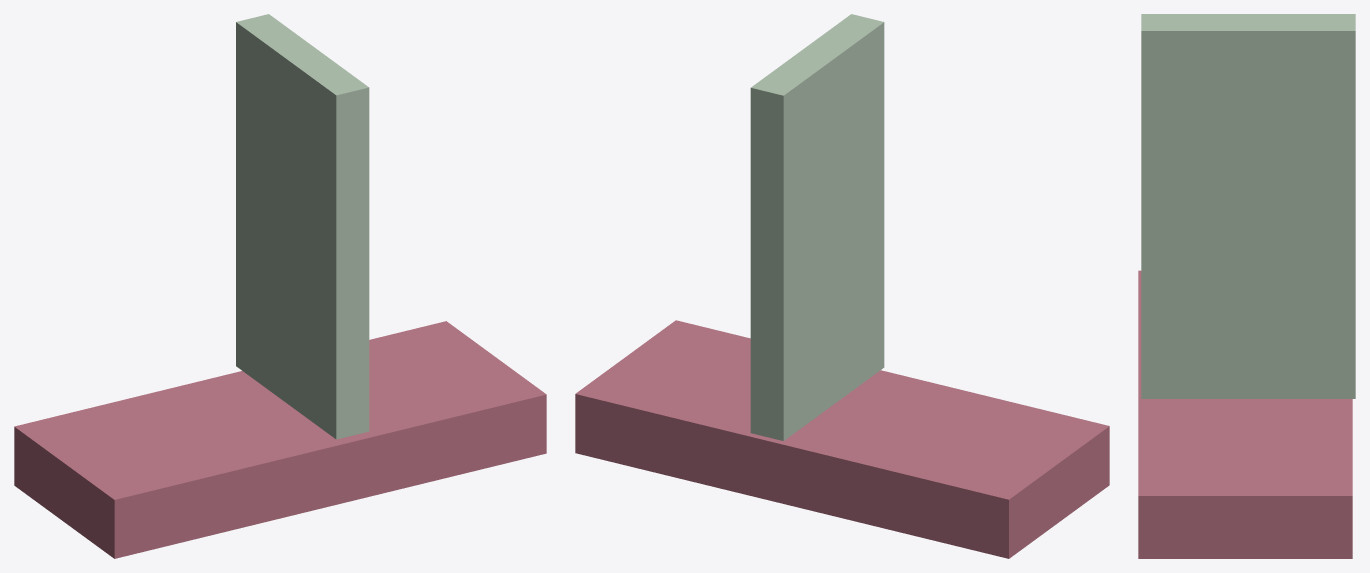
3 renders of one model, left to right at view 1: azimuth 30°, elevation 25°; view 2: azimuth 150°, elevation 25°; view 3: azimuth 270°, elevation 25°, orthographic. The views are drawn at different scales.
Visible parts, largest first — view 1: world; view 2: world; view 3: world.
Part boxes in pixels (left/top/right/bottom): world: left=14, top=14, right=546, bottom=558; world: left=575, top=14, right=1109, bottom=558; world: left=1138, top=14, right=1355, bottom=558.
Bounding box in the file's own units: 9.2 × 8.3 × 3.75.
